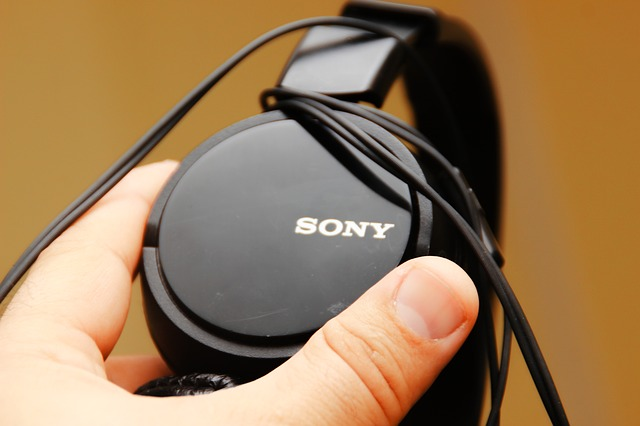headphones: (139, 1, 503, 426)
